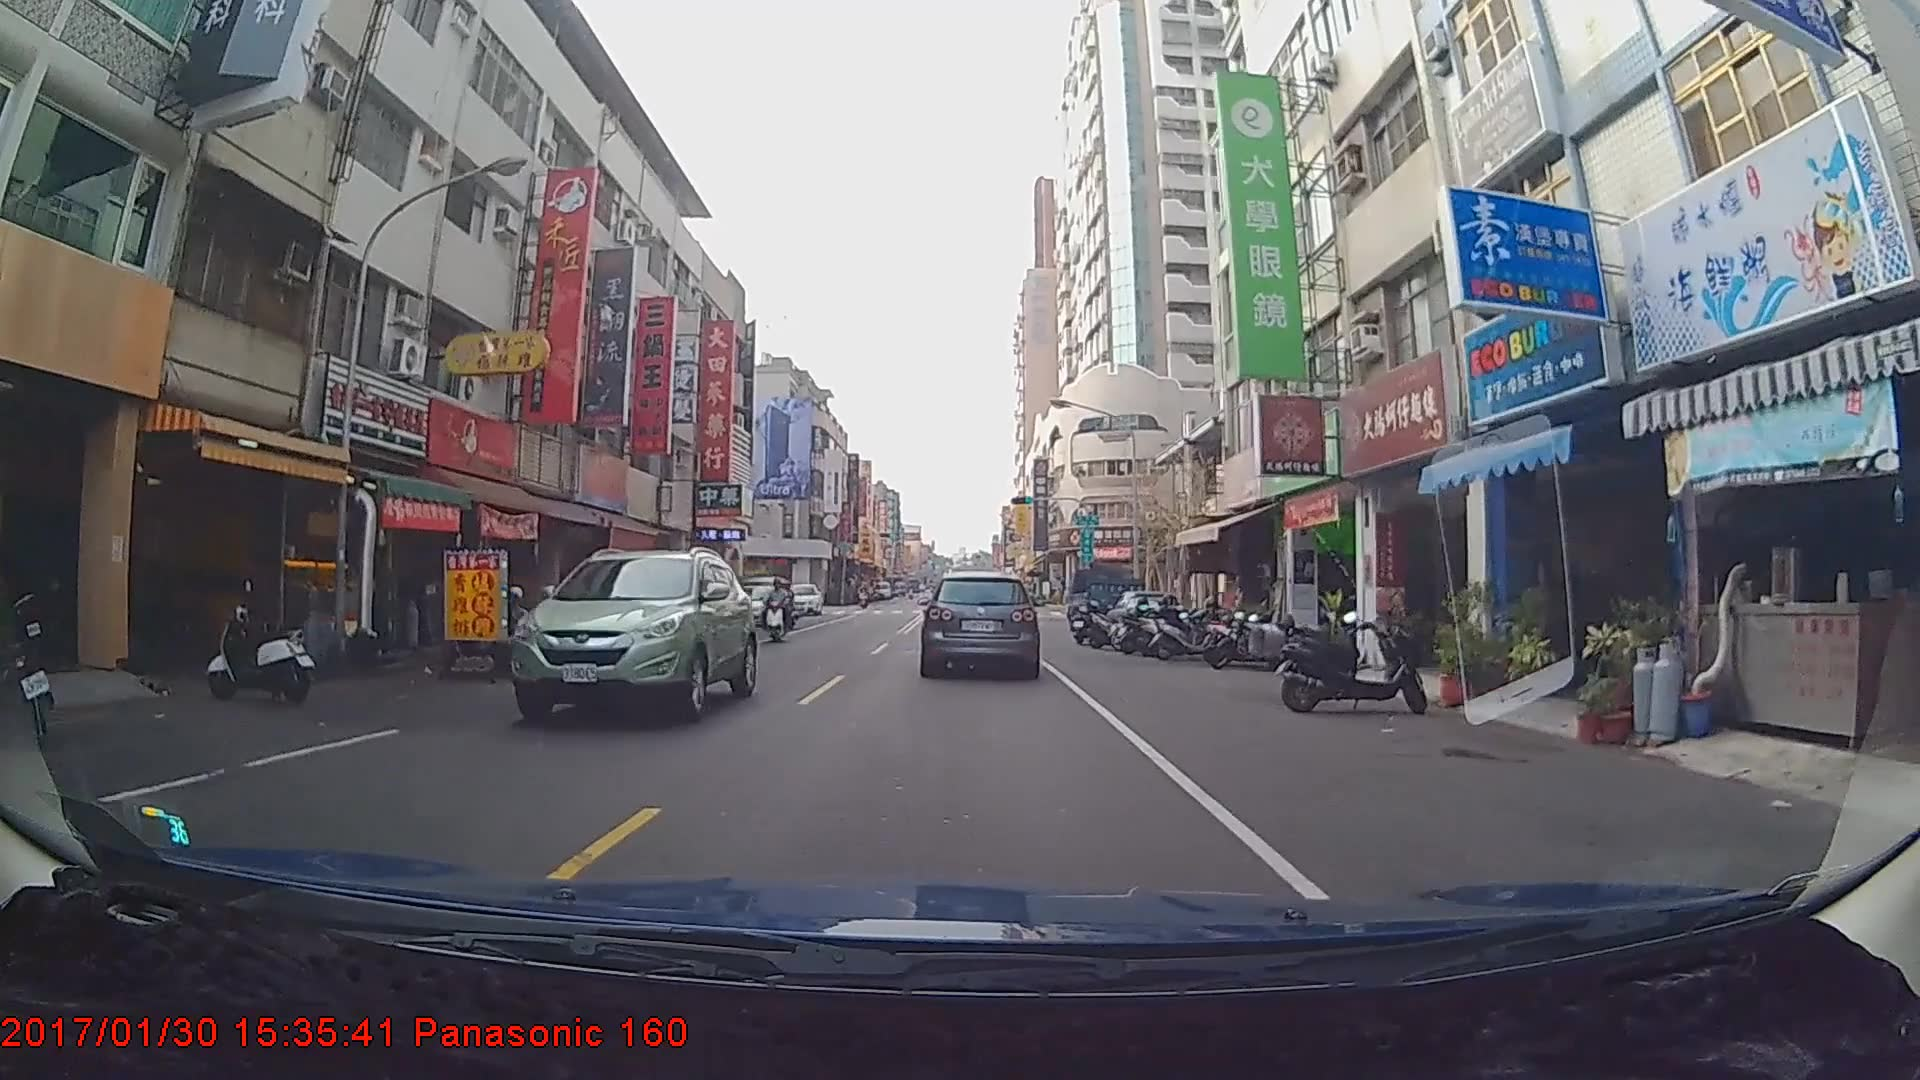rider: (766, 574, 793, 638)
vehicle: (505, 546, 756, 726), (923, 571, 1038, 676), (1066, 566, 1149, 633), (781, 583, 821, 616)
